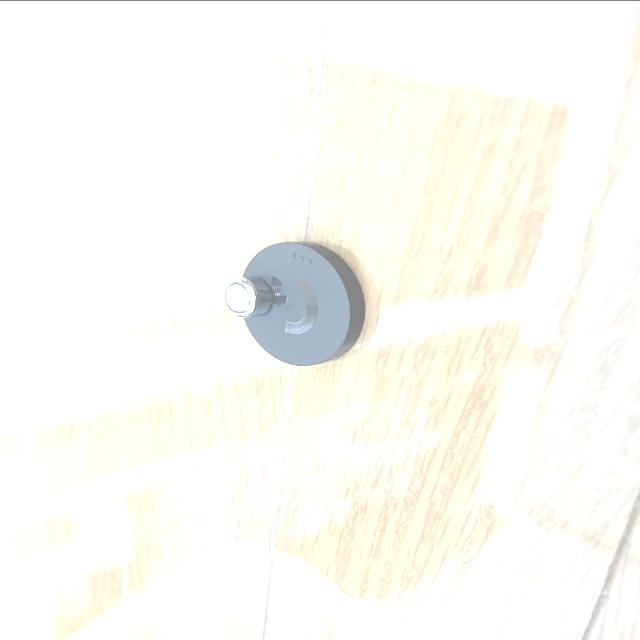COIN: (224, 276, 274, 318)
